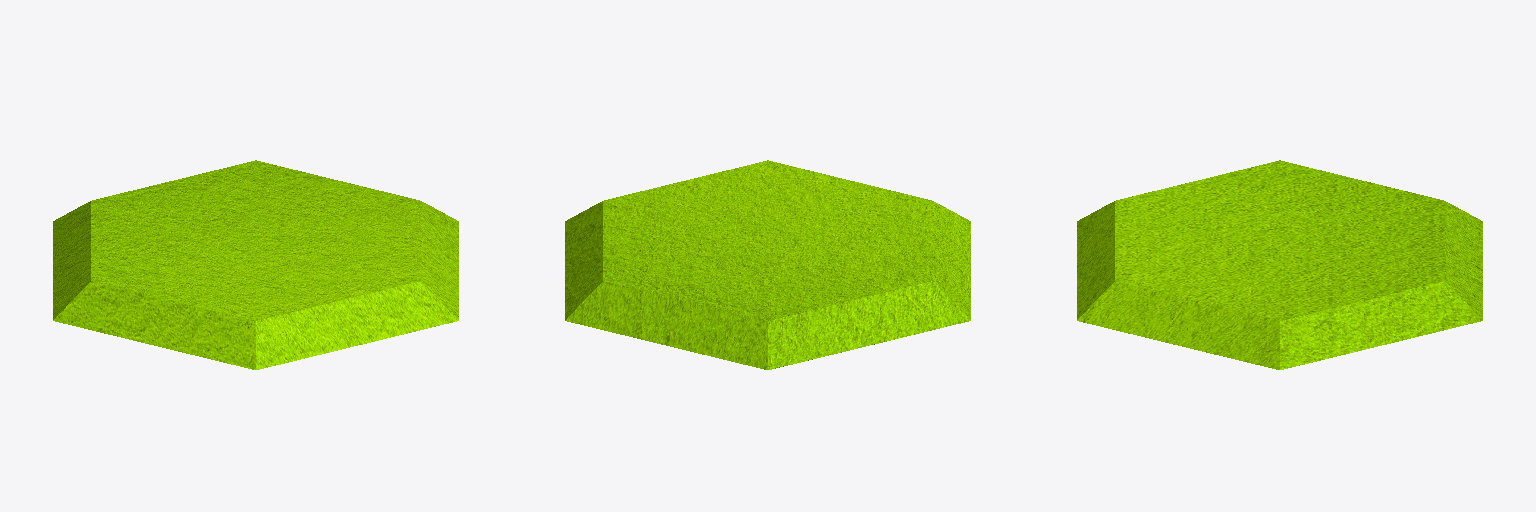
3 renders of one model, left to right at view 1: azimuth 30°, elevation 25°; view 2: azimuth 150°, elevation 25°; view 3: azimuth 270°, elevation 25°, orthographic.
Visible parts, largest first — view 1: mesh_[number redacted]_mesh; view 2: mesh_[number redacted]_mesh; view 3: mesh_[number redacted]_mesh.
Part boxes in pixels (x1,y1,x2,y2): mesh_[number redacted]_mesh: (53,160,458,369); mesh_[number redacted]_mesh: (565,160,970,369); mesh_[number redacted]_mesh: (1077,160,1482,369).
Bounding box in the file's own units: 0.7 × 0.05 × 0.6062.
Materials: 1 (1 with a texture image).